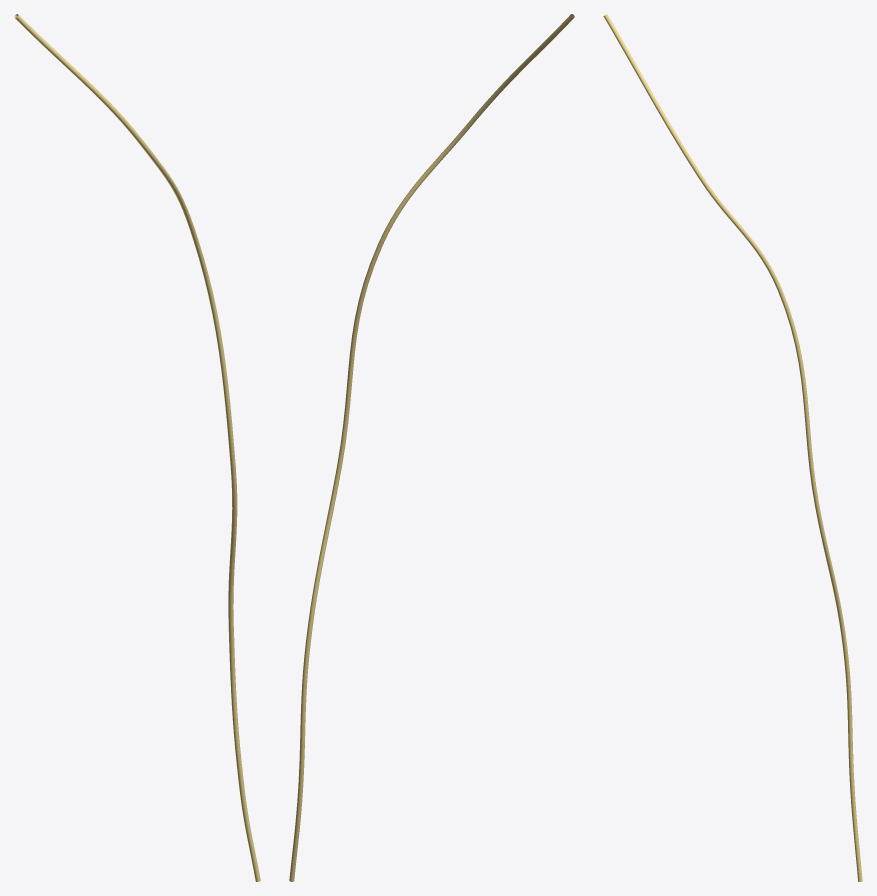
3 renders of one model, left to right at view 1: azimuth 30°, elevation 25°; view 2: azimuth 150°, elevation 25°; view 3: azimuth 330°, elevation 25°, orthographic. The views are drawn at different scales.
Visible parts, largest first — view 1: ZA_779549eca6895bb4; view 2: ZA_779549eca6895bb4; view 3: ZA_779549eca6895bb4.
Boxes of the visible parts, left/top/right/bottom form: ZA_779549eca6895bb4: left=14, top=14, right=260, bottom=881; ZA_779549eca6895bb4: left=289, top=14, right=574, bottom=881; ZA_779549eca6895bb4: left=603, top=14, right=862, bottom=881.
Bounding box in the file's own units: 0.0608 × 0.2036 × 0.017.
